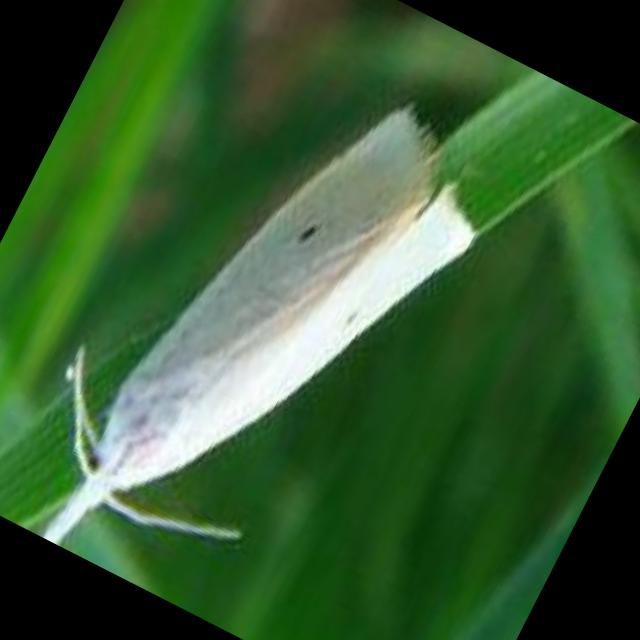stem-borer: (40, 93, 485, 548)
